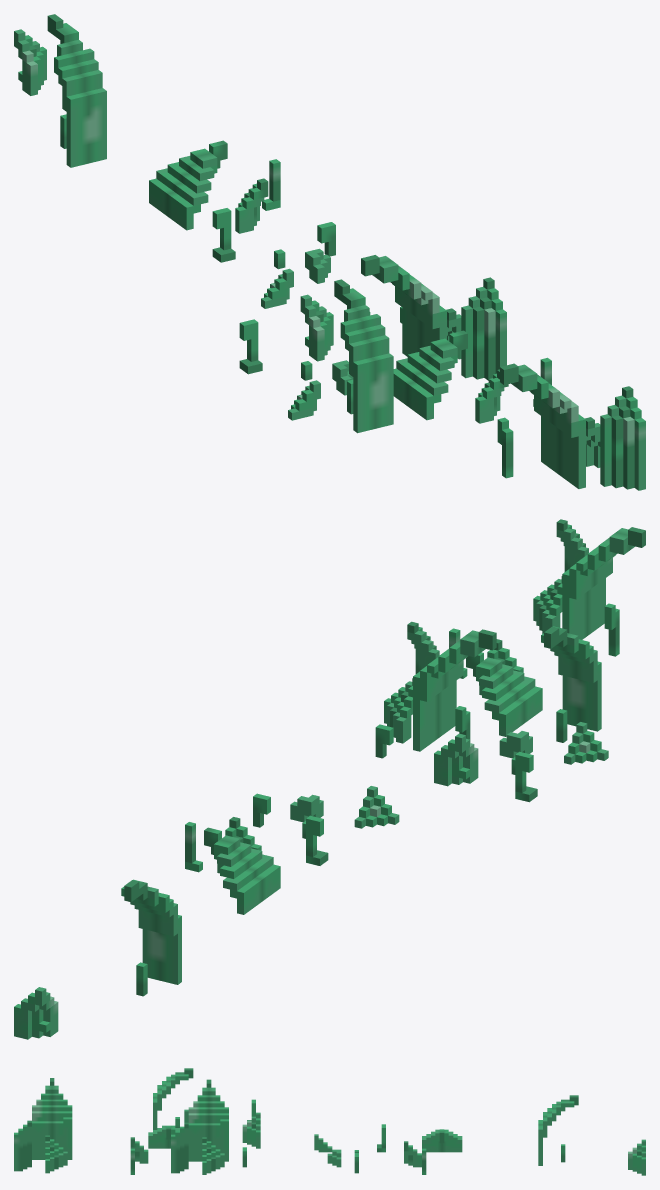
File: GROVE.fbx
3 views of the same model, one above another, from view 1: azimuth 30°, elevation 25°; view 2: azimuth 150°, elevation 25°; view 3: azimuth 270°, elevation 25° (orthographic). The views are drawn at different scales.
Parts seen in each view (by area): view 1: leaves_big, leaves_tall, leaves_two, leaves_3, leaves_small; view 2: leaves_big, leaves_tall, leaves_two, leaves_3, leaves_small; view 3: leaves_big, leaves_tall, leaves_two, leaves_3, leaves_small.
Boxes of the visible parts, x1,y1,x2,y2 form: leaves_big: (239,255,551,433); leaves_tall: (497,363,645,490); leaves_two: (14,14,106,167); leaves_3: (149,140,280,233); leaves_small: (212,208,335,308); leaves_big: (375,621,608,802); leaves_tall: (533,519,645,656); leaves_two: (14,879,181,1039); leaves_3: (185,817,280,914); leaves_small: (253,786,399,865); leaves_big: (130,1068,260,1174); leaves_tall: (14,1078,72,1173); leaves_two: (538,1095,645,1175); leaves_3: (404,1129,462,1174); leaves_small: (314,1124,385,1173).
Size of the model in its own units: 29 by 18 by 141.
Materials: 1 (1 with a texture image).
